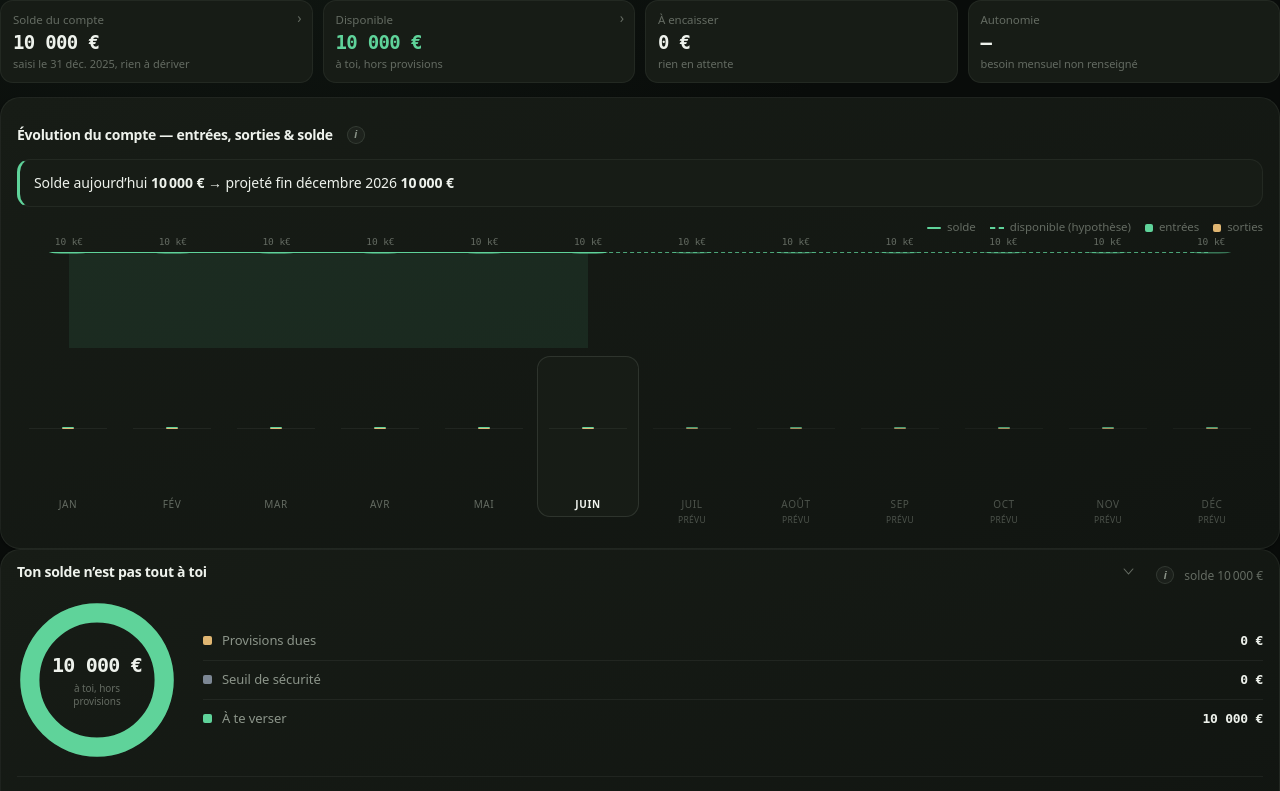
Test: la composition d’un chiffre, au clic sur sa tuile › ouvre la formule du disponible
Click the button "Disponible 10 000 € à toi, hors provisions ›" at (364, 20), box [322,0,635,83]
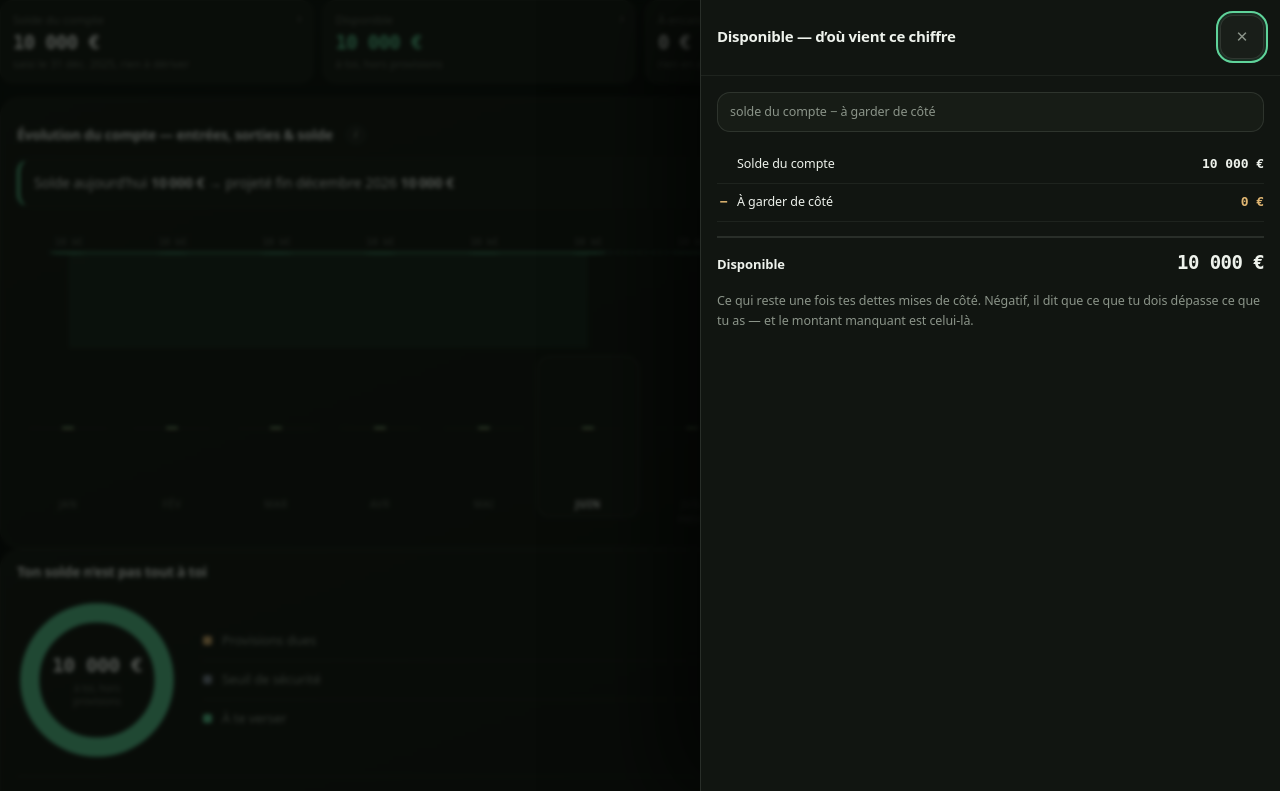
expect the text "solde du compte − à garder de côté" is shown: met, box [717,92,1264,132]
